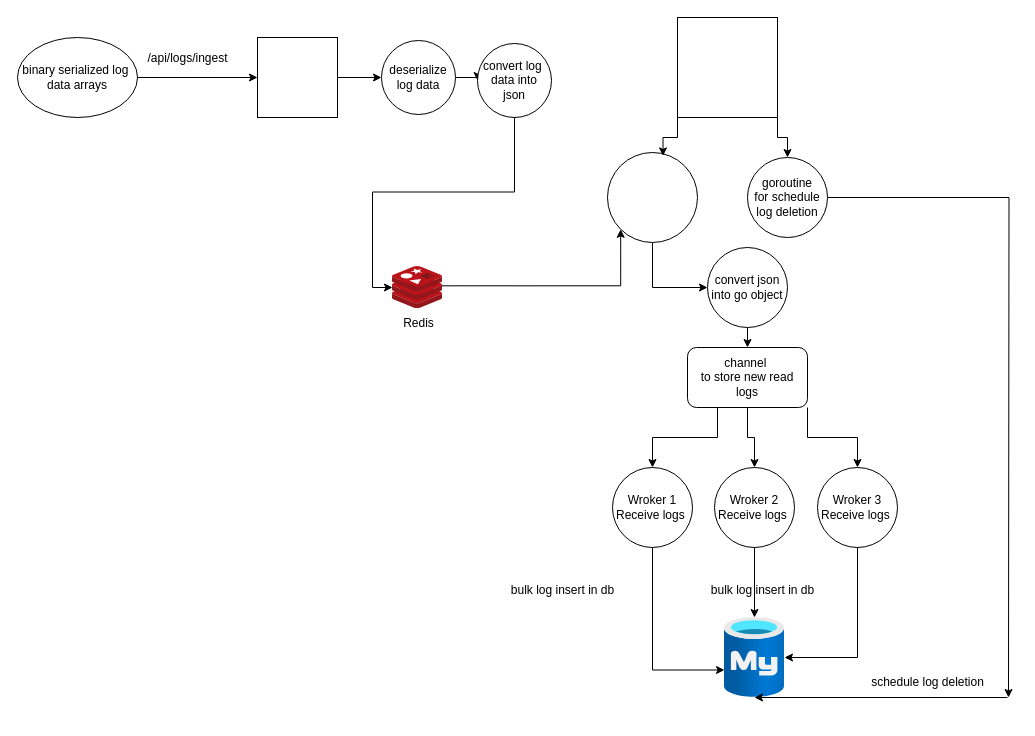
Image size: 1035x736. Some labels were removed from this diagram. The box of each missing label's shape, as (x1, y1, x2, y2) in pixels:
Go server: (256, 36, 338, 118)
Go Wrorker: (676, 16, 778, 118)
goroutine for reading the redis to get new logs: (606, 152, 698, 242)
MySQL: (724, 617, 784, 697)
